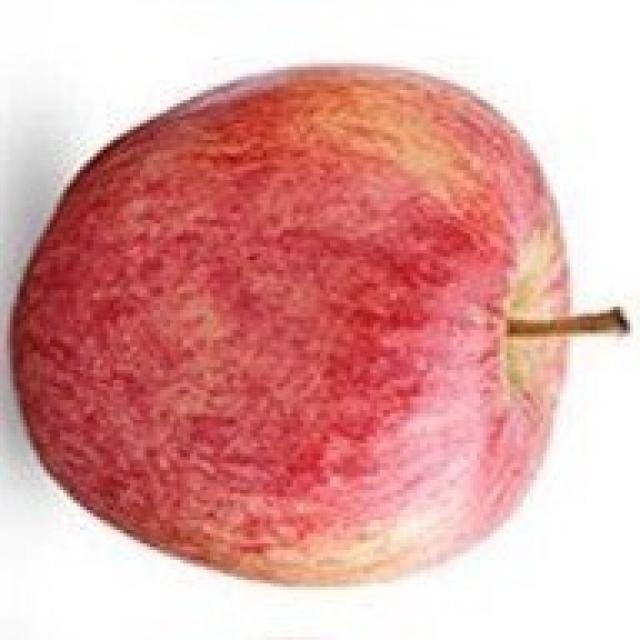75-_ripeness: (11, 61, 572, 594)
